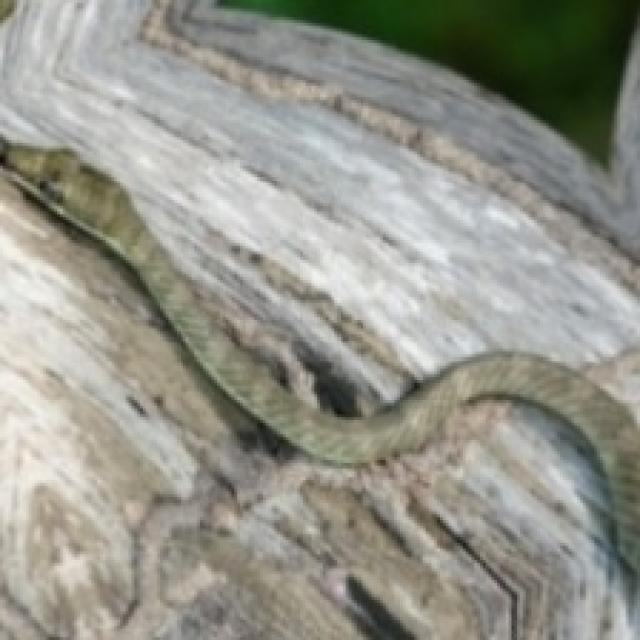paradise tree snake: (0, 0, 637, 637), (0, 174, 637, 637), (0, 160, 426, 466)
